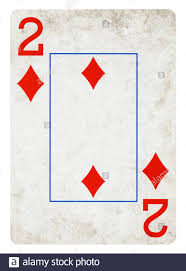two of diamonds: (9, 9, 176, 244)
